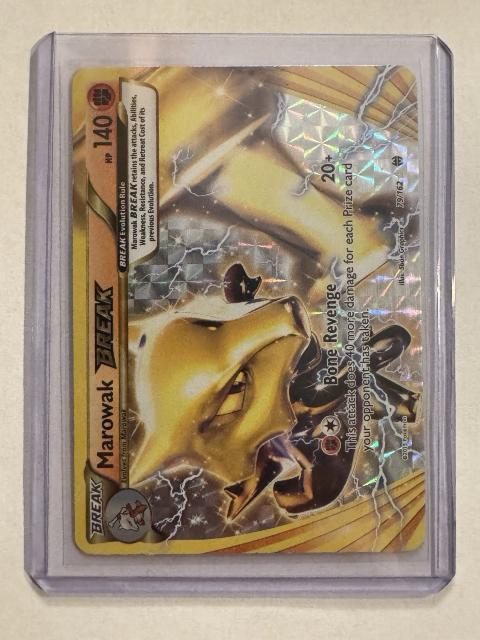Card: (67, 60, 432, 560)
Name: (90, 271, 120, 474)
